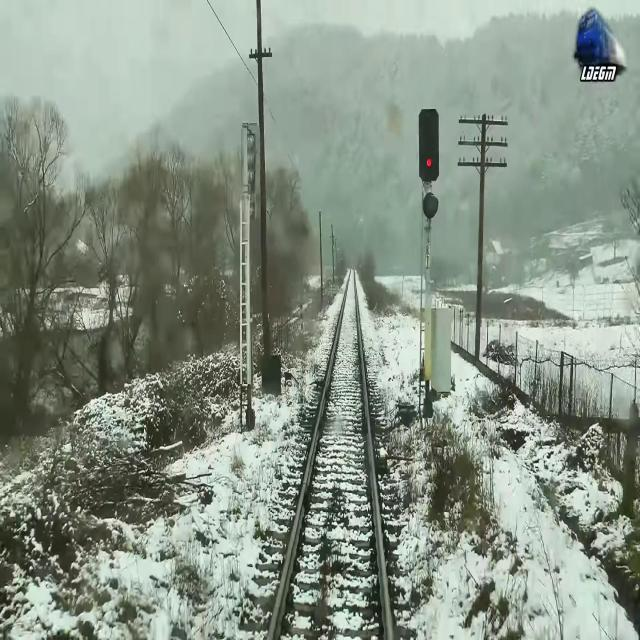rail-track: (272, 268, 387, 639)
